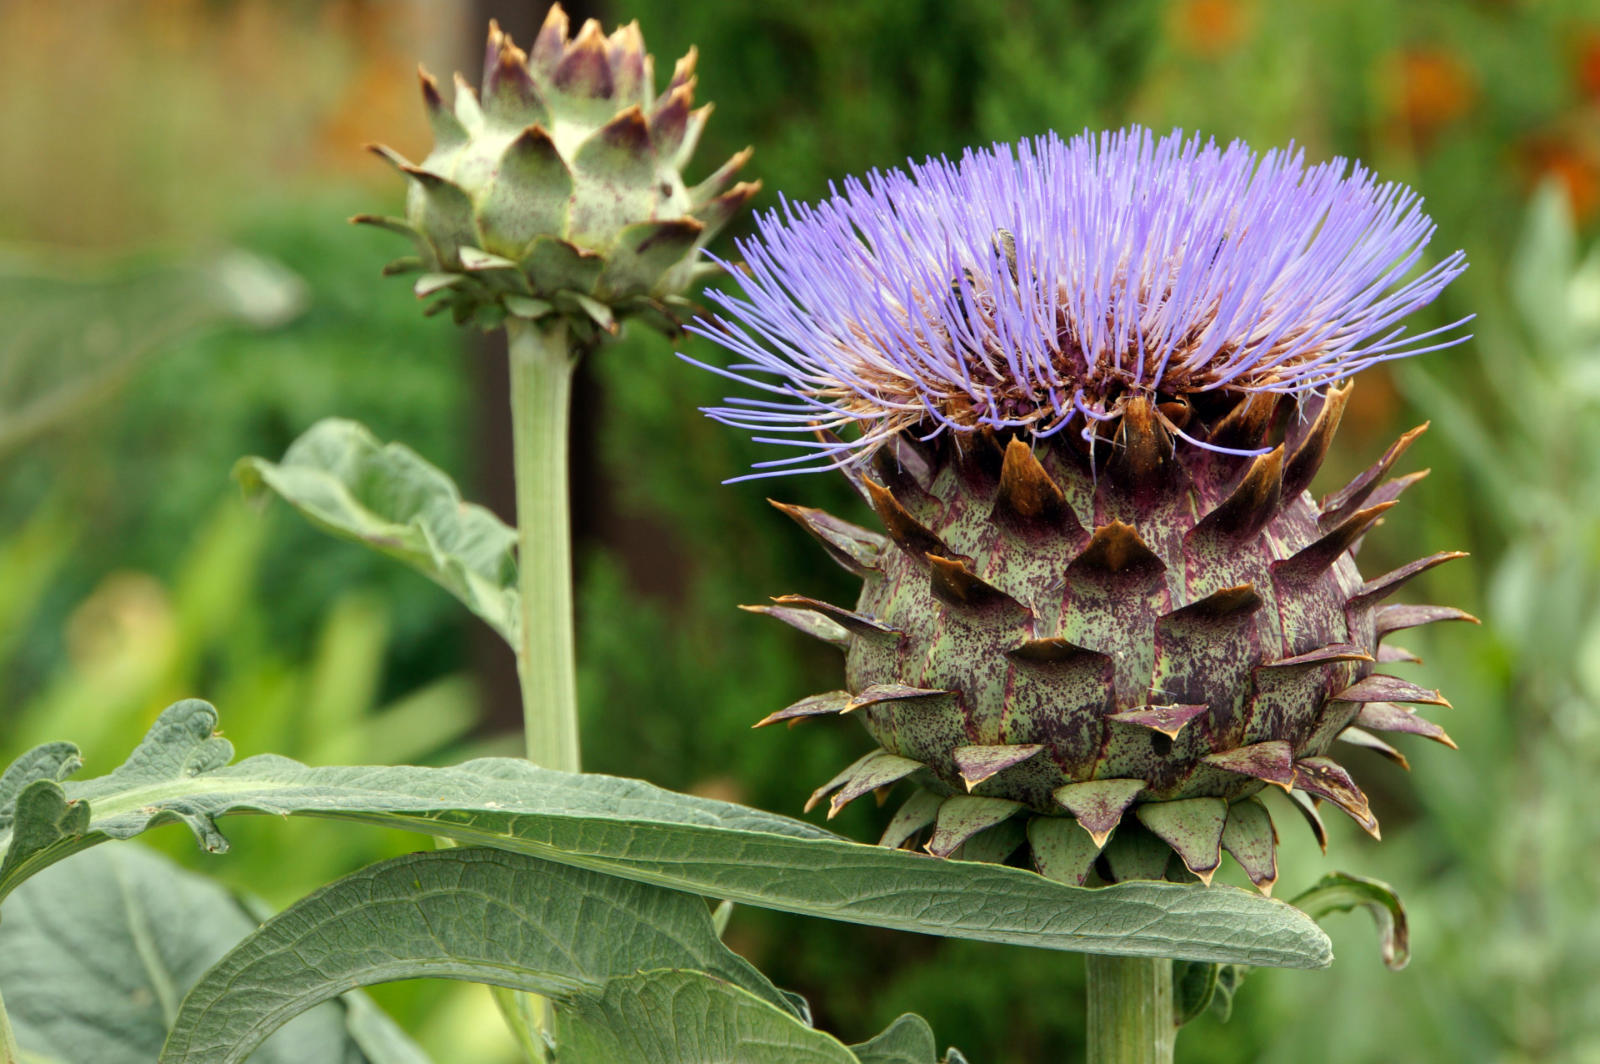thistle: (710, 133, 1477, 851)
